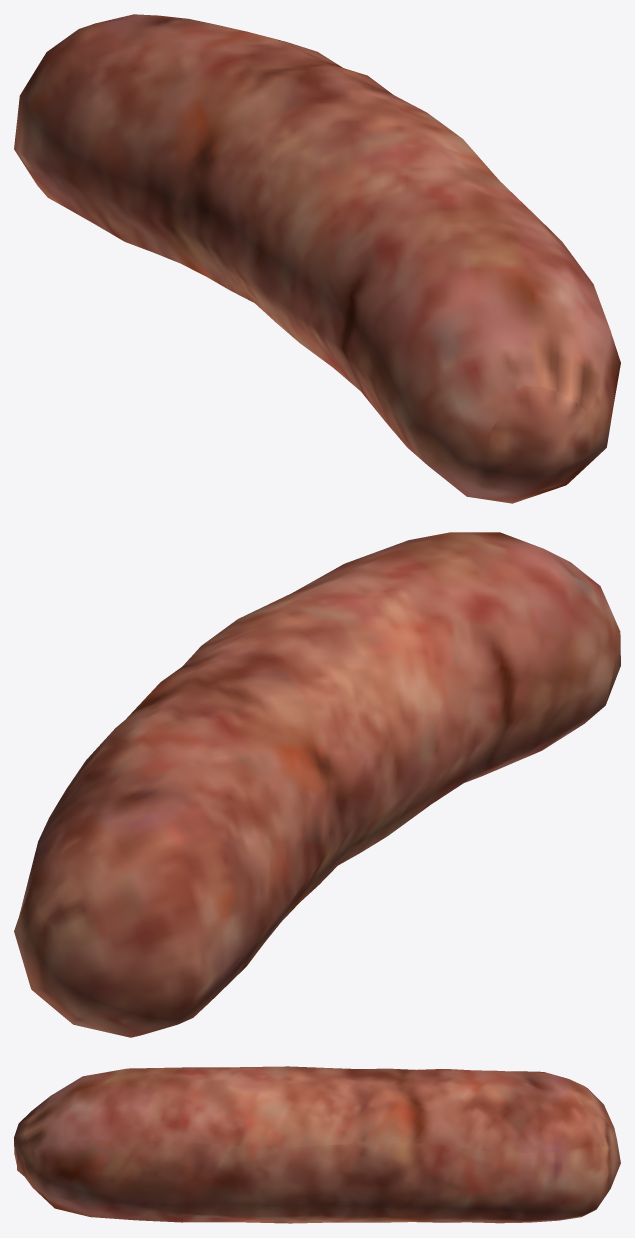
File: BBQSausage.obj
The picture shows the model from 3 angles, top to bottom: view 1: azimuth 30°, elevation 25°; view 2: azimuth 150°, elevation 25°; view 3: azimuth 270°, elevation 25°; orthographic projection. The views are drawn at different scales.
Parts seen in each view (by area): view 1: kaochang; view 2: kaochang; view 3: kaochang.
Boxes of the visible parts, box(x1,y1,x2,y2) form: kaochang: box(14, 14, 620, 503); kaochang: box(14, 532, 620, 1037); kaochang: box(14, 1066, 620, 1223).
Bounding box in the file's own units: 0.5534 × 0.5005 × 1.85.
